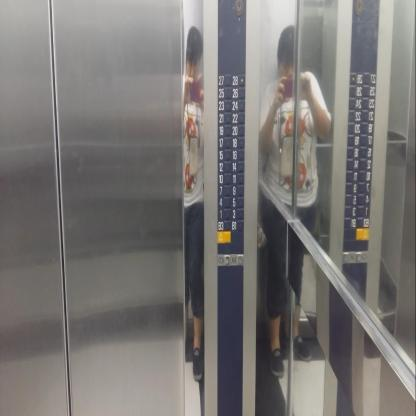1: (217, 207, 232, 219), (357, 205, 370, 217)
10: (217, 172, 231, 186)
11: (231, 172, 245, 185)
12: (217, 160, 231, 174)
14: (231, 160, 245, 173)
15: (217, 148, 231, 161)
16: (231, 148, 245, 161)
17: (217, 136, 231, 149)
18: (232, 136, 245, 148), (343, 217, 357, 228)
19: (217, 123, 231, 136)
20: (232, 123, 245, 136)
21: (217, 111, 232, 124)
22: (232, 111, 245, 124)
23: (217, 99, 232, 112)
24: (232, 98, 245, 112)
25: (217, 86, 232, 99)
26: (232, 86, 246, 99)
27: (217, 74, 232, 86)
28: (232, 73, 246, 86)
3: (232, 207, 244, 220)
4: (217, 196, 232, 209)
5: (232, 196, 244, 209)
7: (217, 185, 232, 197)
9: (231, 184, 245, 197)
B1: (232, 219, 244, 231)
B3: (217, 219, 232, 231)
alarm: (216, 230, 231, 243), (355, 227, 369, 240)
close: (231, 252, 244, 266), (342, 250, 355, 264)
keyhole: (233, 0, 245, 16)
open: (355, 250, 370, 264), (217, 252, 230, 266)
unknown: (348, 72, 362, 85), (362, 84, 376, 97), (348, 84, 362, 97), (348, 97, 362, 110), (360, 121, 374, 134), (357, 193, 371, 206), (363, 72, 376, 85), (359, 169, 372, 182), (360, 146, 373, 159), (358, 181, 371, 194), (347, 110, 361, 122), (346, 134, 360, 146), (345, 157, 359, 169), (359, 158, 373, 170), (360, 134, 374, 146), (361, 110, 375, 122), (356, 216, 370, 228), (347, 122, 360, 134), (346, 146, 359, 158), (345, 169, 358, 181), (362, 97, 375, 109), (345, 181, 358, 193), (344, 204, 357, 216), (344, 193, 358, 204)
